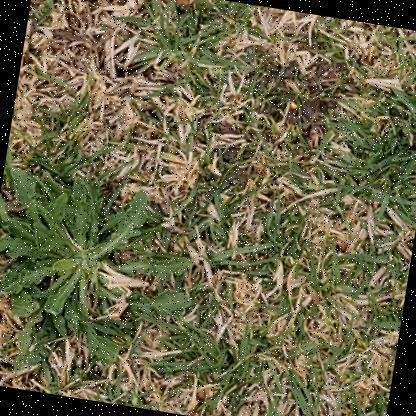Weeds: (0, 159, 207, 393)
